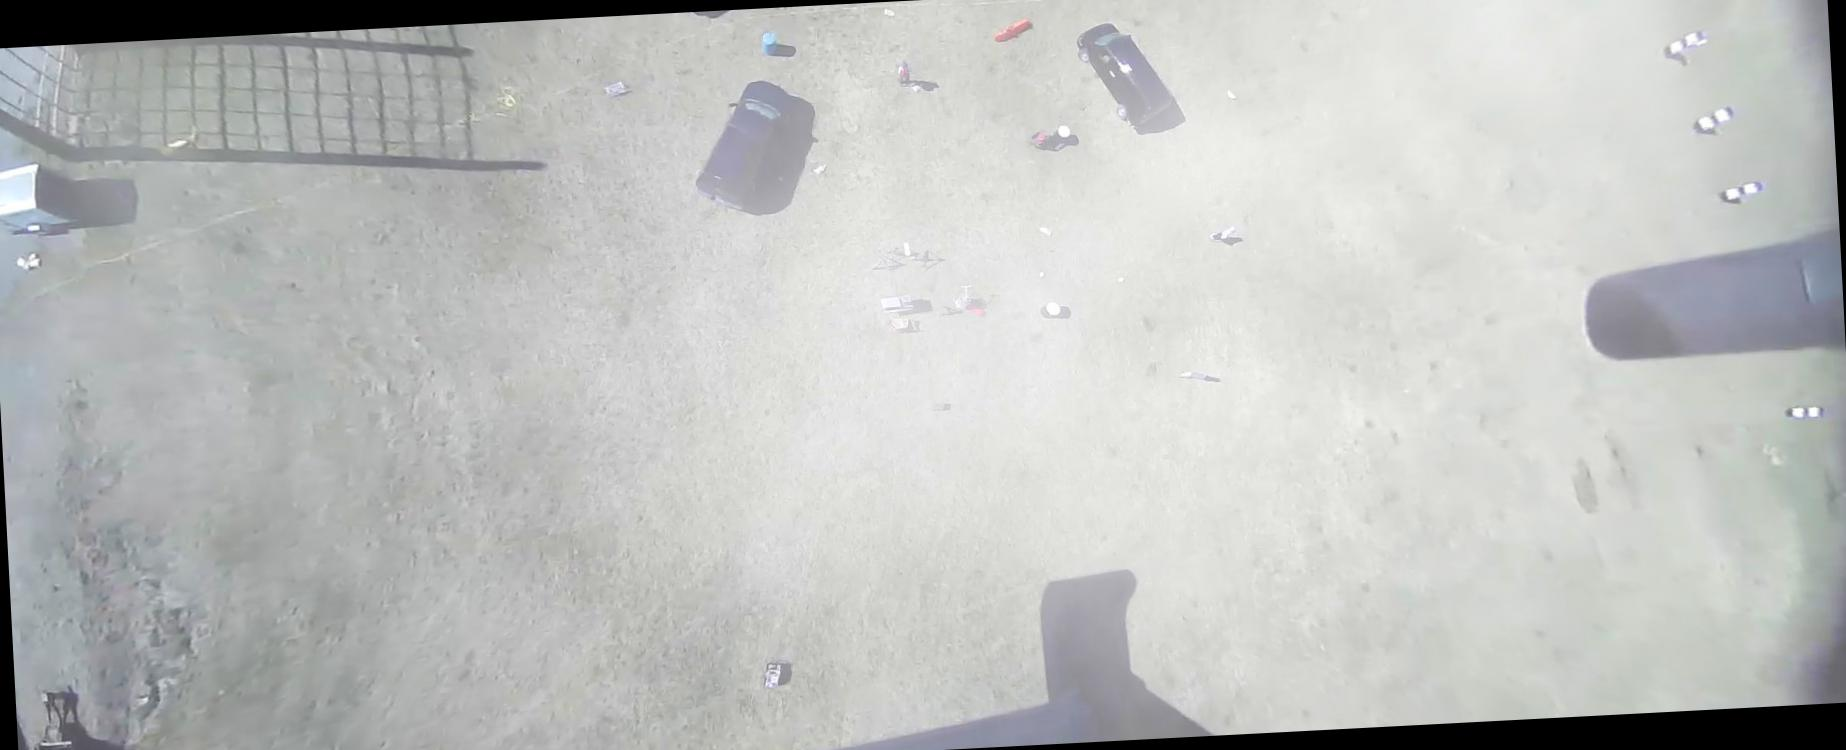vehicle: (688, 79, 801, 212), (1075, 20, 1174, 128)
